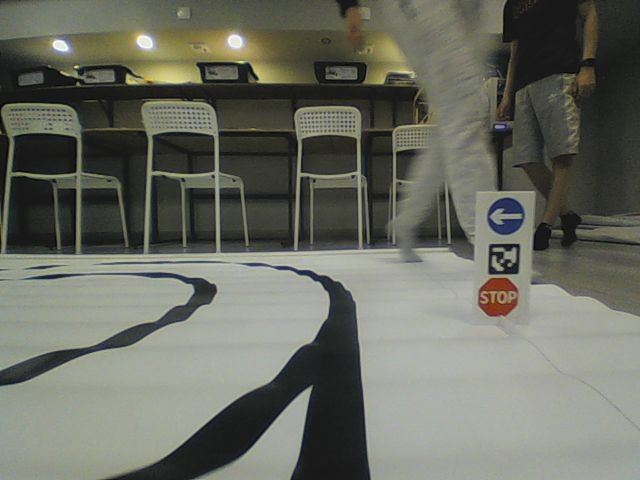Stop: (476, 276, 521, 319)
